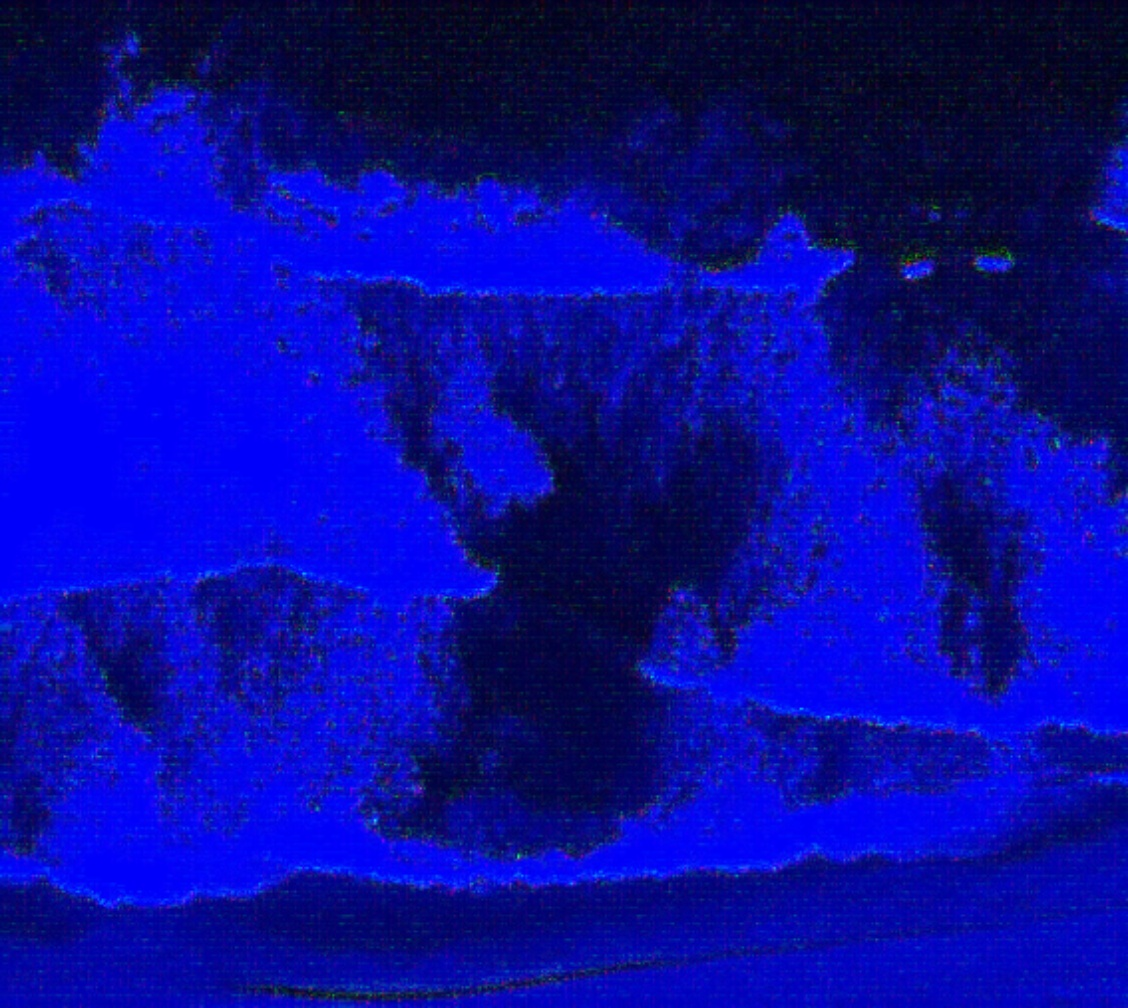rip_current: (362, 291, 794, 835)
